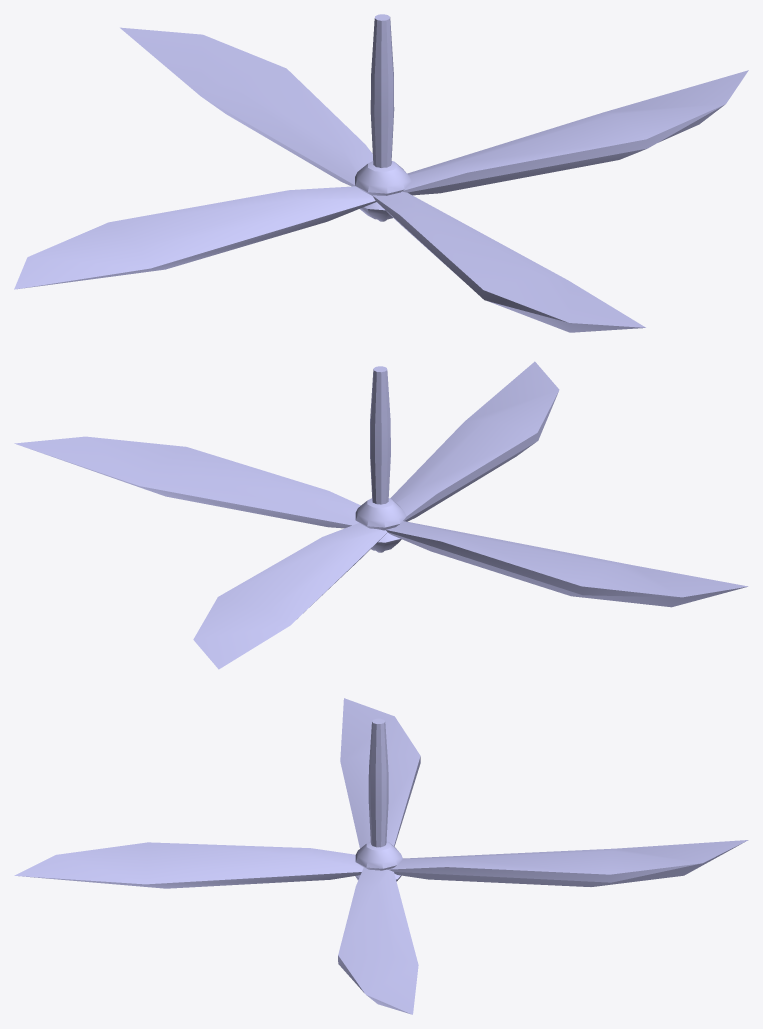
File: Ventilateur.fbx
3 renders of one model, top to bottom at view 1: azimuth 30°, elevation 25°; view 2: azimuth 150°, elevation 25°; view 3: azimuth 270°, elevation 25°, orthographic. The views are drawn at different scales.
Visible parts, largest first — view 1: Ventilo; view 2: Ventilo; view 3: Ventilo.
Part boxes in pixels (x1,y1,x2,y2): Ventilo: [14, 14, 748, 332]; Ventilo: [14, 361, 748, 669]; Ventilo: [14, 698, 748, 1014].
Bounding box in the file's own units: 141 × 138 × 35.2.
